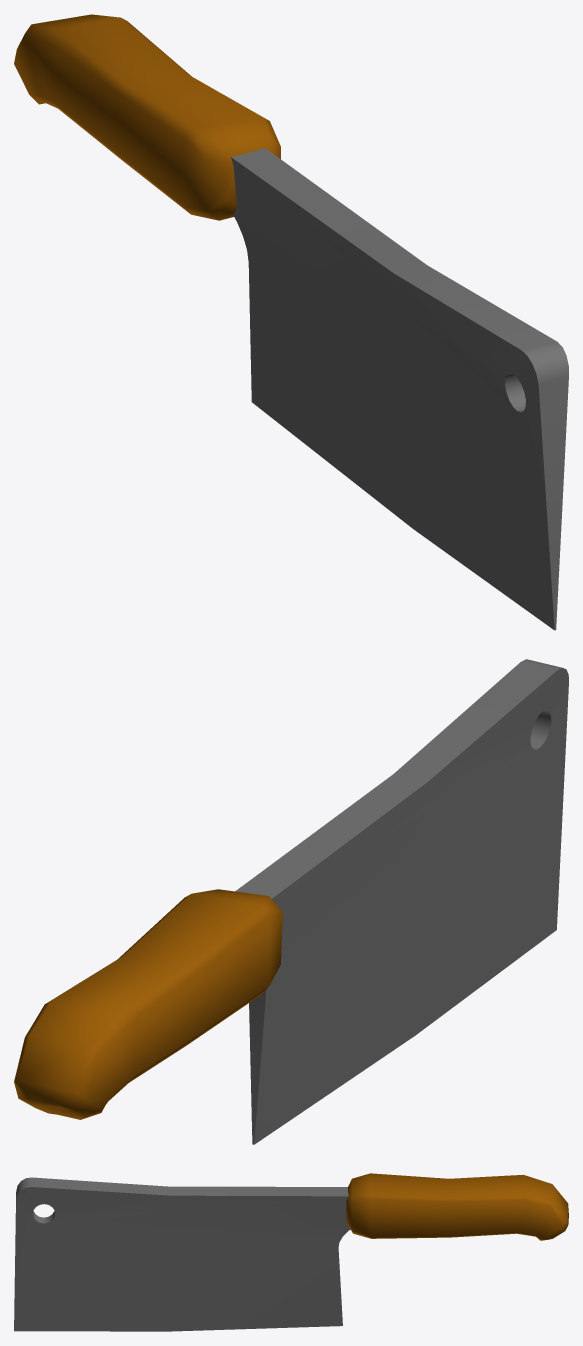
The model's file is Meat_Knife.fbx.
3 views of the same model, one above another, from view 1: azimuth 30°, elevation 25°; view 2: azimuth 150°, elevation 25°; view 3: azimuth 270°, elevation 25° (orthographic). The views are drawn at different scales.
Parts seen in each view (by area): view 1: Meat_Knife; view 2: Meat_Knife; view 3: Meat_Knife.
Boxes of the visible parts, x1,y1,x2,y2 form: Meat_Knife: (14, 14, 568, 630); Meat_Knife: (14, 659, 568, 1144); Meat_Knife: (14, 1173, 568, 1331).
Bounding box in the file's own units: 11.36 × 35.12 × 118.
